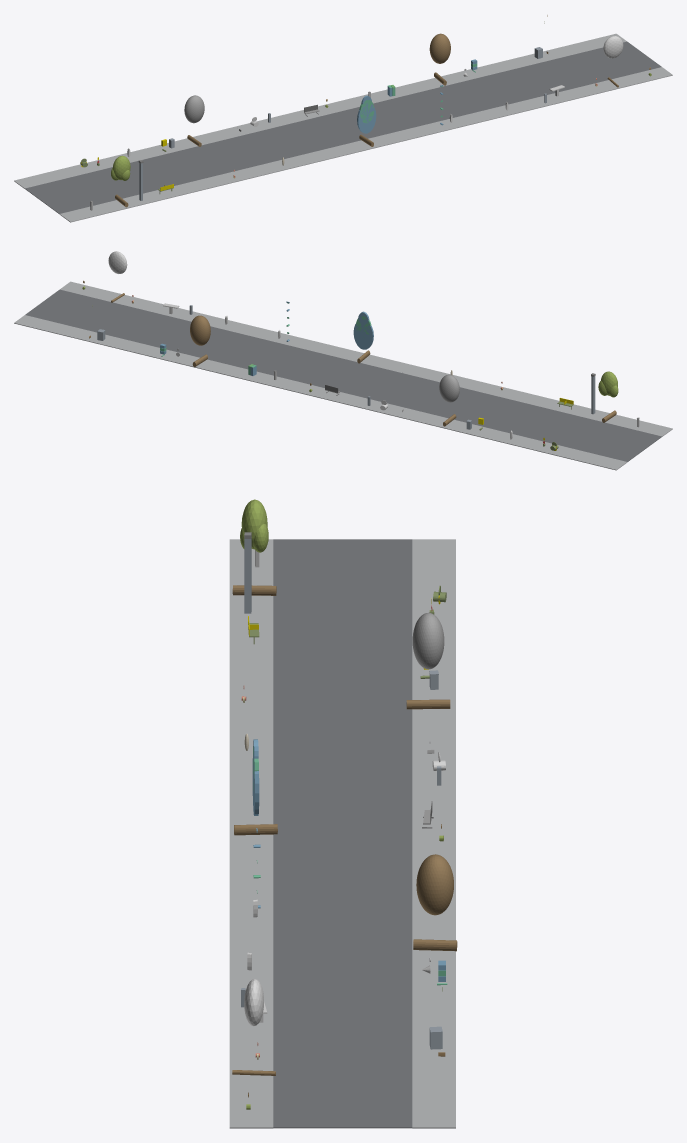
3 views of the same model, one above another, from view 1: azimuth 30°, elevation 25°; view 2: azimuth 150°, elevation 25°; view 3: azimuth 270°, elevation 25° (orthographic). The views are drawn at different scales.
Visible parts, largest first — view 1: road_slab, sidewalk_left, sidewalk_right, inst_0014, inst_0015, inst_0013, inst_0012, inst_0016; view 2: road_slab, sidewalk_right, sidewalk_left, inst_0014, inst_0015, inst_0013, inst_0012, inst_0016; view 3: road_slab, sidewalk_left, sidewalk_right, inst_0015, inst_0013, inst_0012, inst_0014, inst_0016.
Boxes of the visible parts, <box> form: road_slab: <box>25,41,661,213</box>; sidewalk_left: <box>59,67,672,222</box>; sidewalk_right: <box>14,33,626,188</box>; inst_0014: <box>357,95,376,146</box>; inst_0015: <box>429,33,450,85</box>; inst_0013: <box>184,95,204,146</box>; inst_0012: <box>111,155,130,207</box>; inst_0016: <box>603,36,623,87</box>; road_slab: <box>25,289,661,461</box>; sidewalk_right: <box>14,315,627,470</box>; sidewalk_left: <box>60,281,672,436</box>; inst_0014: <box>353,311,373,363</box>; inst_0015: <box>190,315,210,367</box>; inst_0013: <box>439,374,459,426</box>; inst_0012: <box>598,371,618,422</box>; inst_0016: <box>108,251,127,302</box>; road_slab: <box>273,539,412,1128</box>; sidewalk_left: <box>229,539,273,1128</box>; sidewalk_right: <box>412,539,455,1128</box>; inst_0015: <box>413,854,457,951</box>; inst_0013: <box>406,612,450,709</box>; inst_0012: <box>232,499,276,595</box>; inst_0014: <box>234,739,277,835</box>; inst_0016: <box>232,979,275,1075</box>.
Size of the model in its own units: 80 by 6.08 by 13.08.
